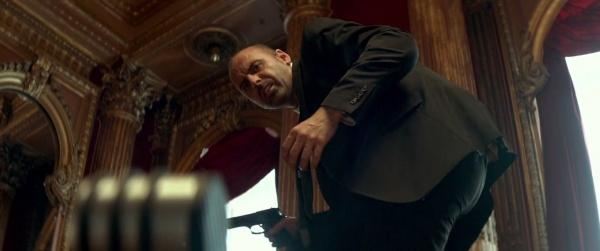Gun: (226, 207, 290, 247)
